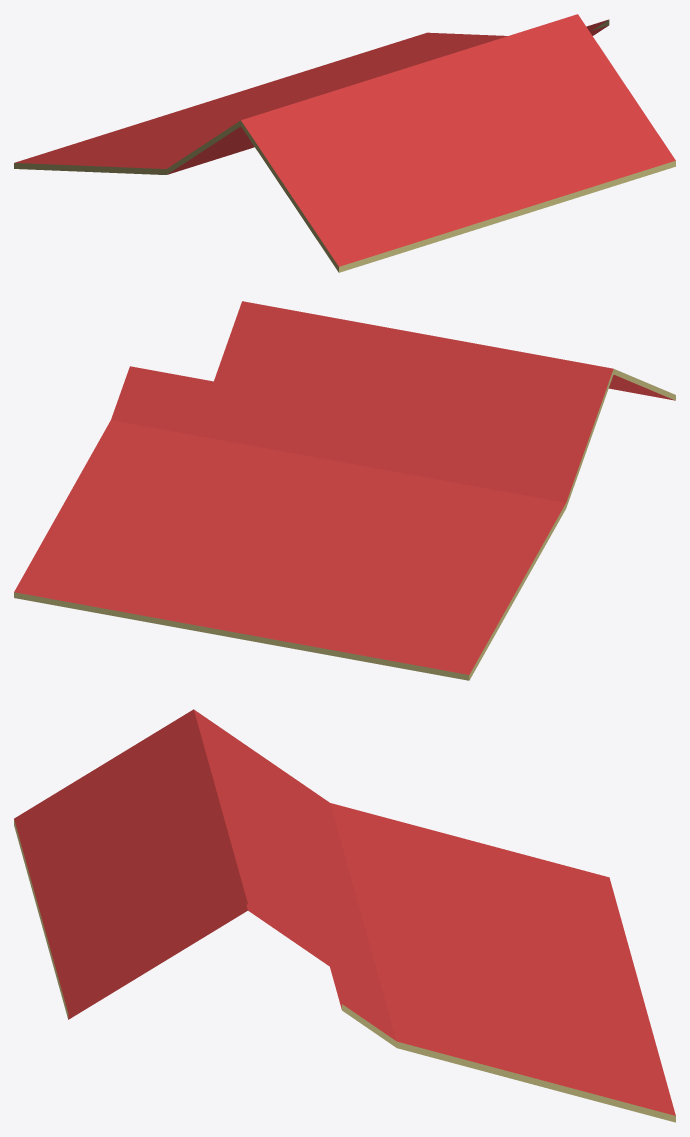
3 views of the same model, one above another, from view 1: azimuth 30°, elevation 25°; view 2: azimuth 150°, elevation 25°; view 3: azimuth 270°, elevation 25° (orthographic). The views are drawn at different scales.
Bounding box in the file's own units: 8.21 × 9 × 2.93.
